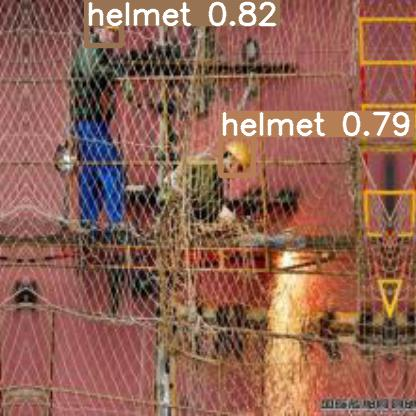helmet: (86, 0, 121, 45), (220, 136, 253, 175)
